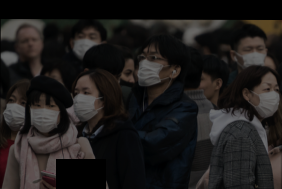with_mask: (28, 99, 62, 134), (2, 93, 29, 134), (70, 86, 100, 122), (135, 50, 163, 87), (253, 82, 280, 120), (71, 31, 101, 61), (239, 43, 267, 70)
without_mask: (16, 35, 43, 59)
